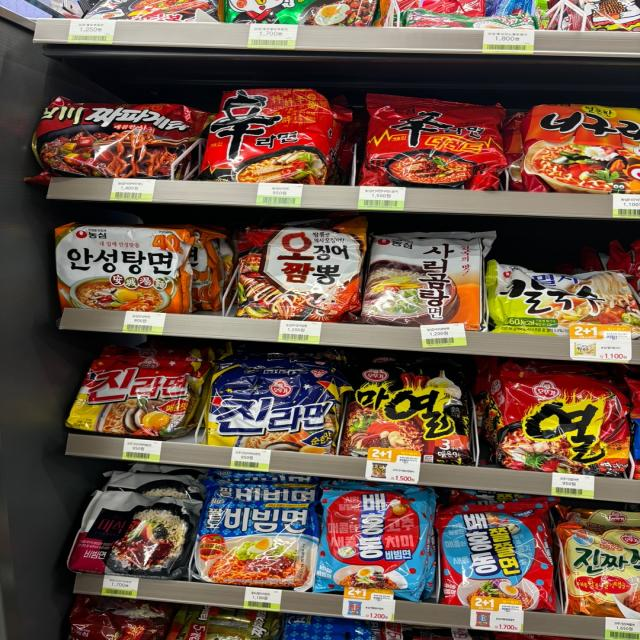product: (497, 371, 635, 482), (369, 94, 516, 189), (39, 94, 202, 175), (235, 214, 363, 315), (440, 506, 560, 610), (364, 234, 492, 330), (354, 366, 476, 466), (324, 491, 439, 597), (58, 228, 197, 314), (209, 88, 333, 182), (212, 366, 346, 450), (195, 497, 317, 588), (70, 353, 192, 437), (530, 102, 640, 192), (567, 526, 640, 609)
